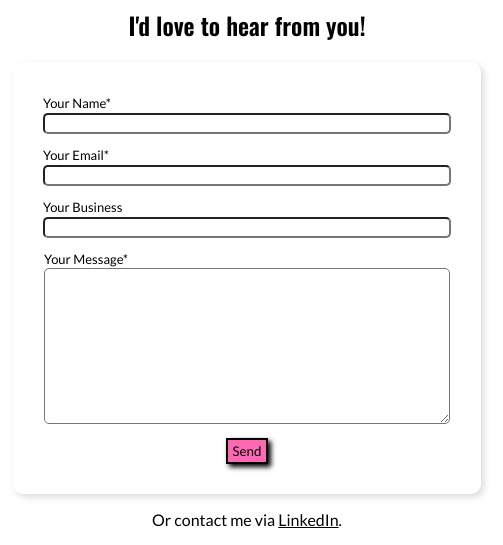
Contact form › shows an error state when sending fails
Type "Ada" into the field labelled "Your Name*" at coordinates (247, 124), box [43, 113, 451, 134]
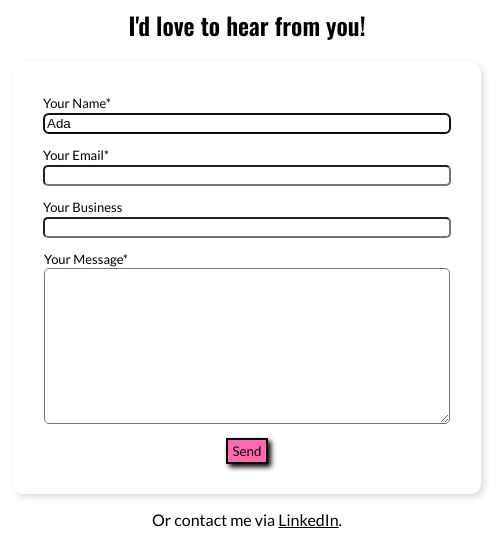
Type "ada@example.com" into the field labelled "Your Email*" at coordinates (247, 176), box [43, 165, 451, 186]
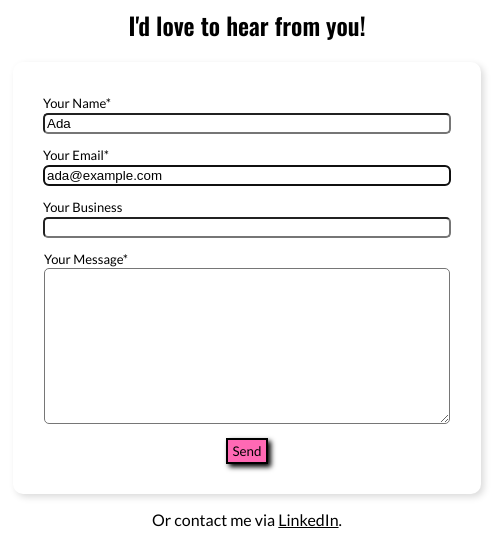
Type "Hello!" into the text box labelled "Your Message*" at coordinates (247, 346), box [44, 268, 450, 424]
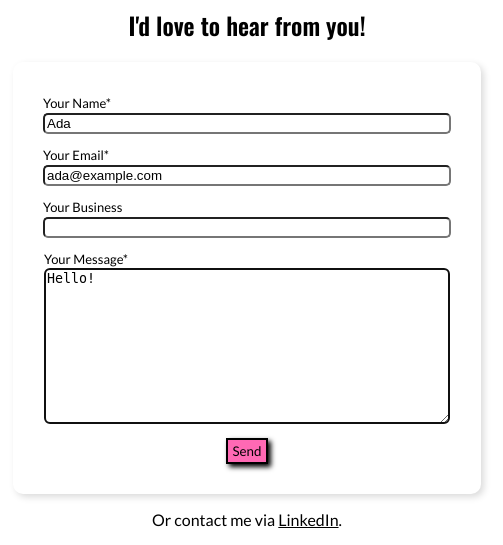
Click the button "Send" at coordinates (247, 451), box [226, 438, 268, 464]
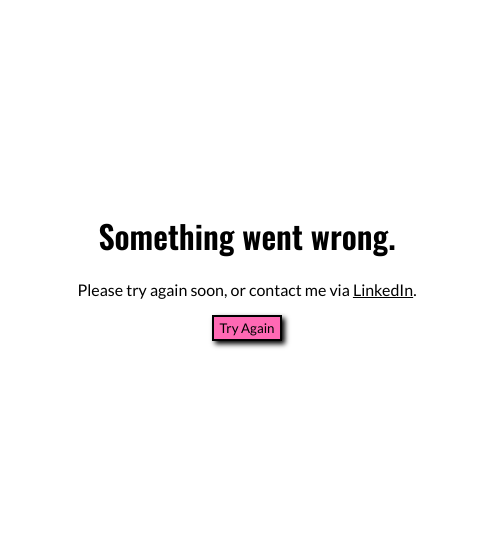
Expected: the heading "Something went wrong." is shown, [77, 212, 417, 259]
Expected: the button "Try Again" is shown, [212, 315, 282, 341]
